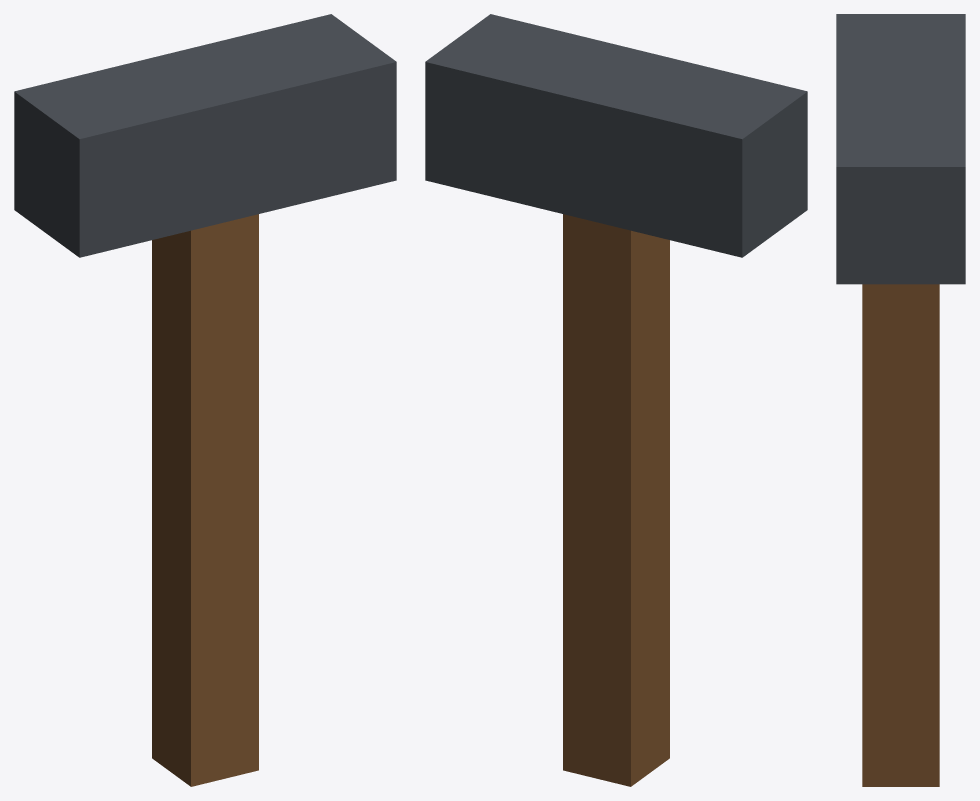
The model's file is good_18.glb.
3 views of the same model, side by side, from view 1: azimuth 30°, elevation 25°; view 2: azimuth 150°, elevation 25°; view 3: azimuth 270°, elevation 25° (orthographic).
Parts seen in each view (by area): view 1: good_18; view 2: good_18; view 3: good_18.
Boxes of the visible parts, box(x1,y1,x2,y2) form: good_18: box(14, 14, 396, 786); good_18: box(425, 14, 807, 786); good_18: box(836, 14, 965, 786).
Bounding box in the file's own units: 0.07 × 0.145 × 0.025.
